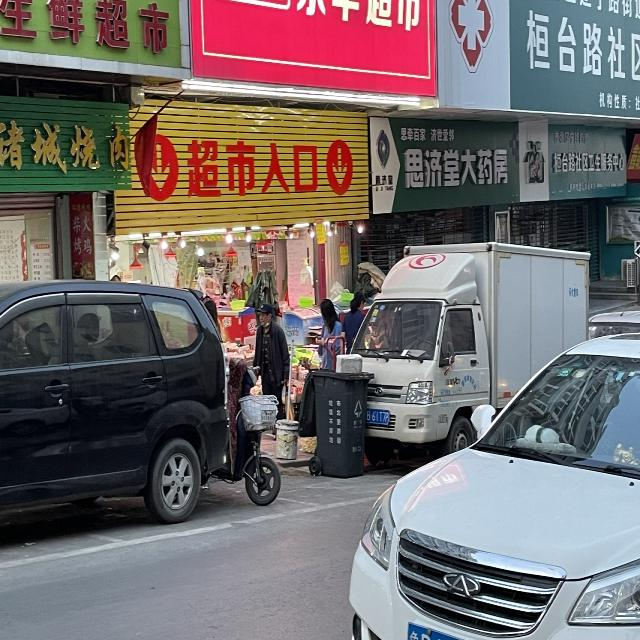overflow: (297, 352, 374, 477)
